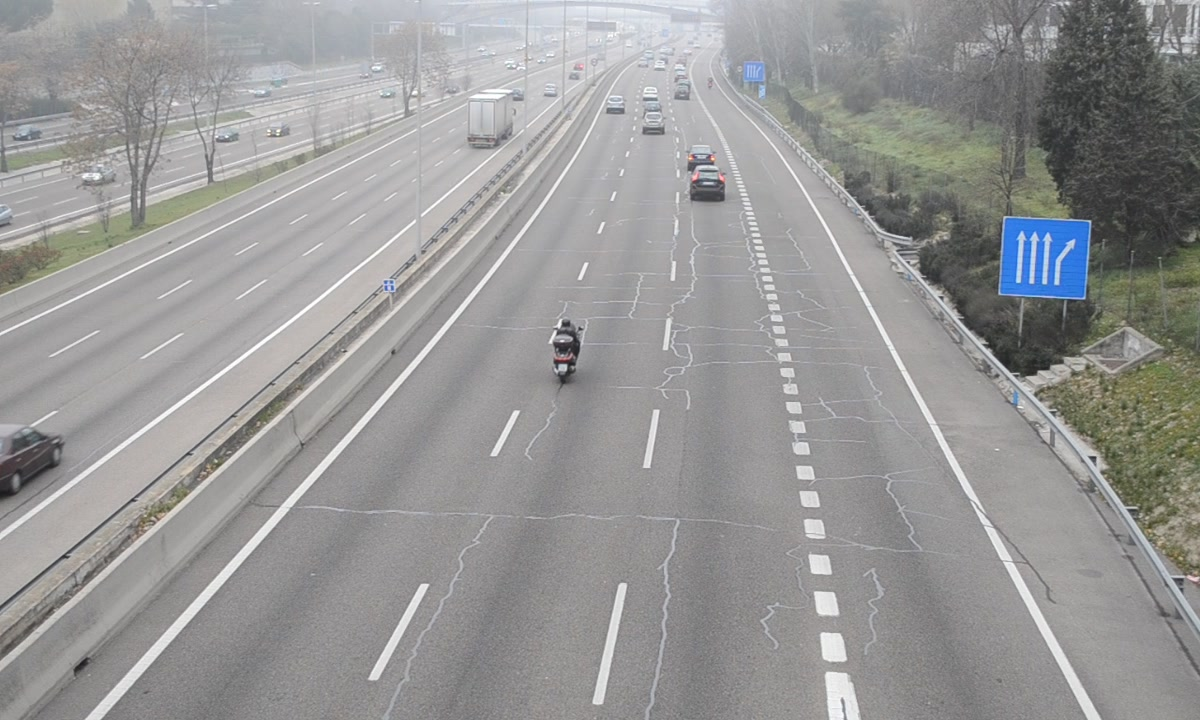car: (689, 166, 728, 202), (686, 144, 716, 168)
motorcycle: (550, 317, 583, 384)
